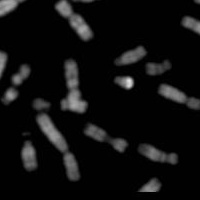chromosome: (36, 113, 79, 181), (55, 0, 93, 41), (82, 123, 127, 153), (158, 83, 200, 110), (138, 144, 178, 164), (64, 59, 79, 110), (114, 46, 146, 66), (20, 140, 38, 172), (0, 0, 31, 18), (181, 16, 200, 45), (12, 63, 32, 85), (146, 60, 171, 76), (0, 50, 7, 103), (61, 99, 87, 112), (0, 87, 17, 105), (114, 75, 134, 90), (31, 98, 50, 111), (70, 0, 103, 3), (193, 0, 200, 11)
